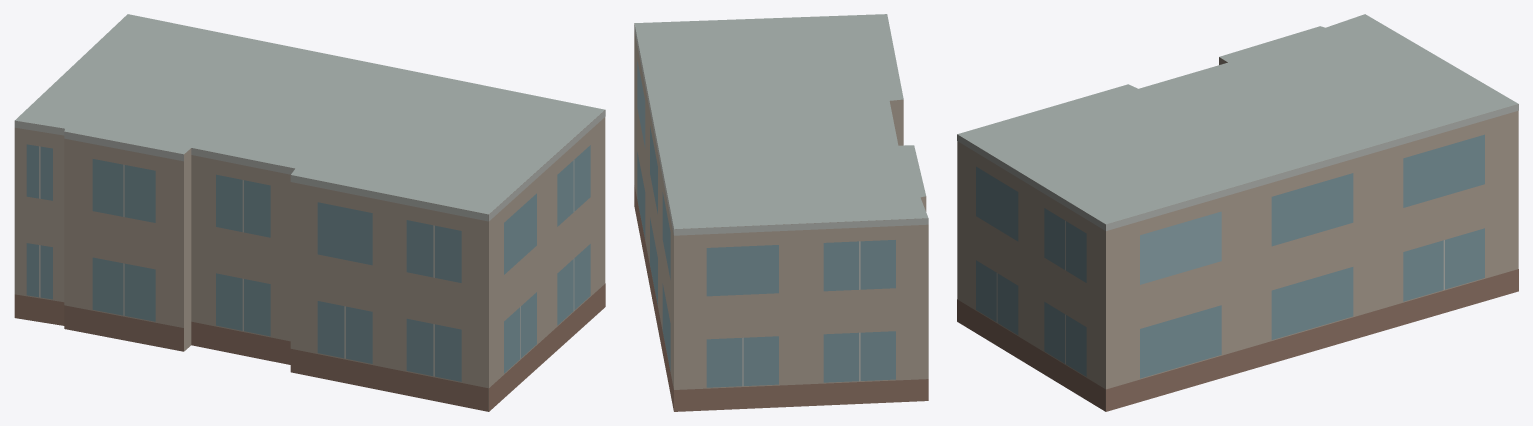
The model's file is survey-upis-32639793.glb.
The picture shows the model from 3 angles, left to right: view 1: azimuth 30°, elevation 25°; view 2: azimuth 150°, elevation 25°; view 3: azimuth 270°, elevation 25°; orthographic projection. The views are drawn at different scales.
Visible parts, largest first — view 1: survey-upis-32639793.tmp; view 2: survey-upis-32639793.tmp; view 3: survey-upis-32639793.tmp.
Boxes of the visible parts, x1,y1,x2,y2 form: survey-upis-32639793.tmp: (14,14,605,411); survey-upis-32639793.tmp: (634,14,928,411); survey-upis-32639793.tmp: (957,14,1518,411).
Size of the model in its own units: 16.39 by 6.8 by 18.48.
